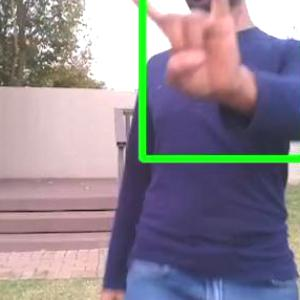takeoff-hand: (111, 0, 250, 108)
